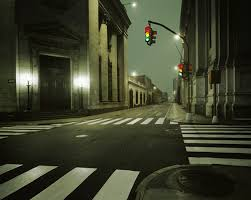striscie pedonali: (2, 164, 140, 199), (178, 124, 251, 166), (3, 120, 71, 140), (78, 115, 172, 126)
